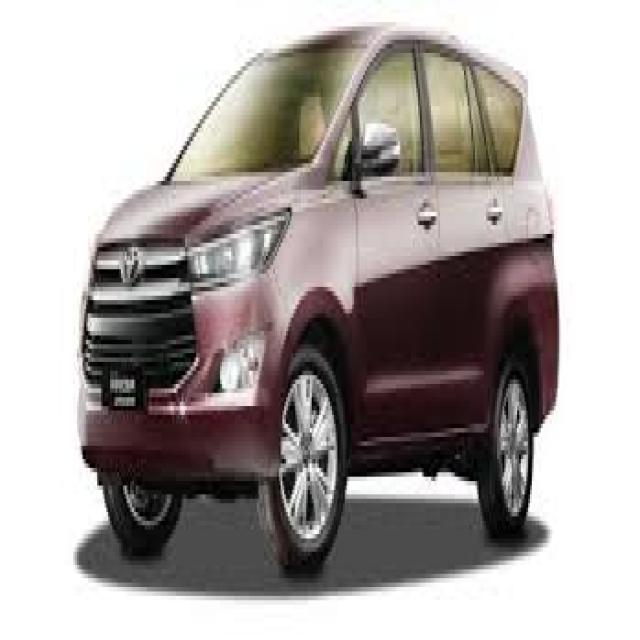light_vehicle: (78, 23, 560, 583)
